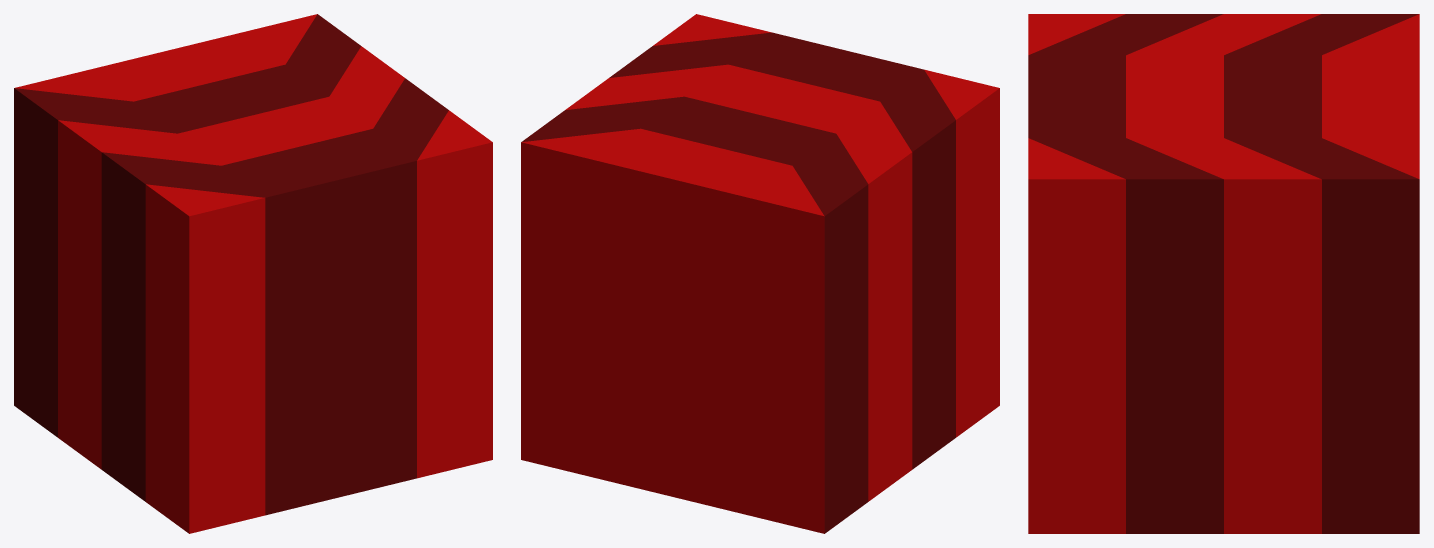
The model's file is beetroot04.obj.
3 views of the same model, side by side, from view 1: azimuth 30°, elevation 25°; view 2: azimuth 150°, elevation 25°; view 3: azimuth 270°, elevation 25° (orthographic). The views are drawn at different scales.
Parts seen in each view (by area): view 1: Cube; view 2: Cube; view 3: Cube.
Part boxes in pixels (bbox=[...]): Cube: bbox=[14, 14, 492, 533]; Cube: bbox=[521, 14, 999, 533]; Cube: bbox=[1028, 14, 1419, 533].
Size of the model in its own units: 0.0129 by 0.0129 by 0.0129.
1 material, 1 textured.
